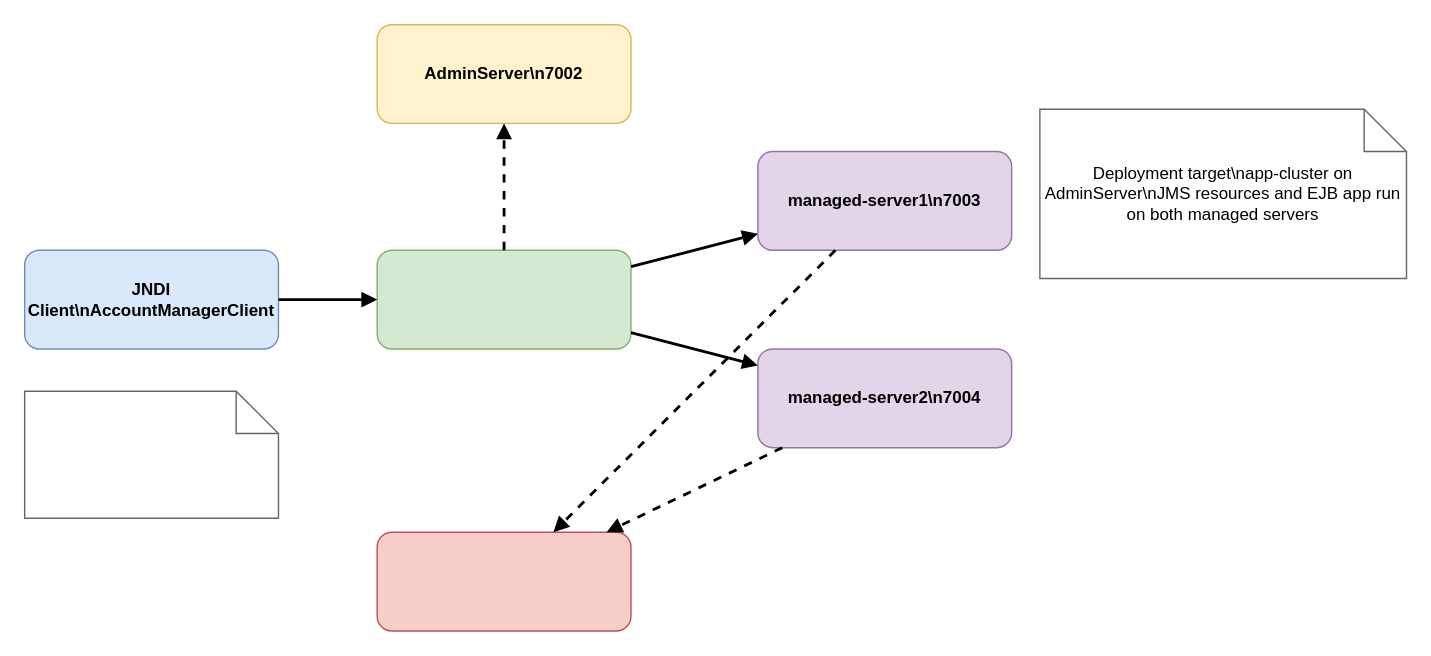
The diagram is 1431 pixels wide and 656 high, and some of its shapes have lost their labels. The box of each missing label's shape, as (x1, y1, x2, y2) in pixels:
app-cluster: (376, 249, 631, 349)
Client connects via t3://127.0.0.1:7003,7004\nJNDI lookup + remote EJB calls: (23, 390, 278, 518)
Derby Network Server\n1527: (376, 531, 631, 631)
